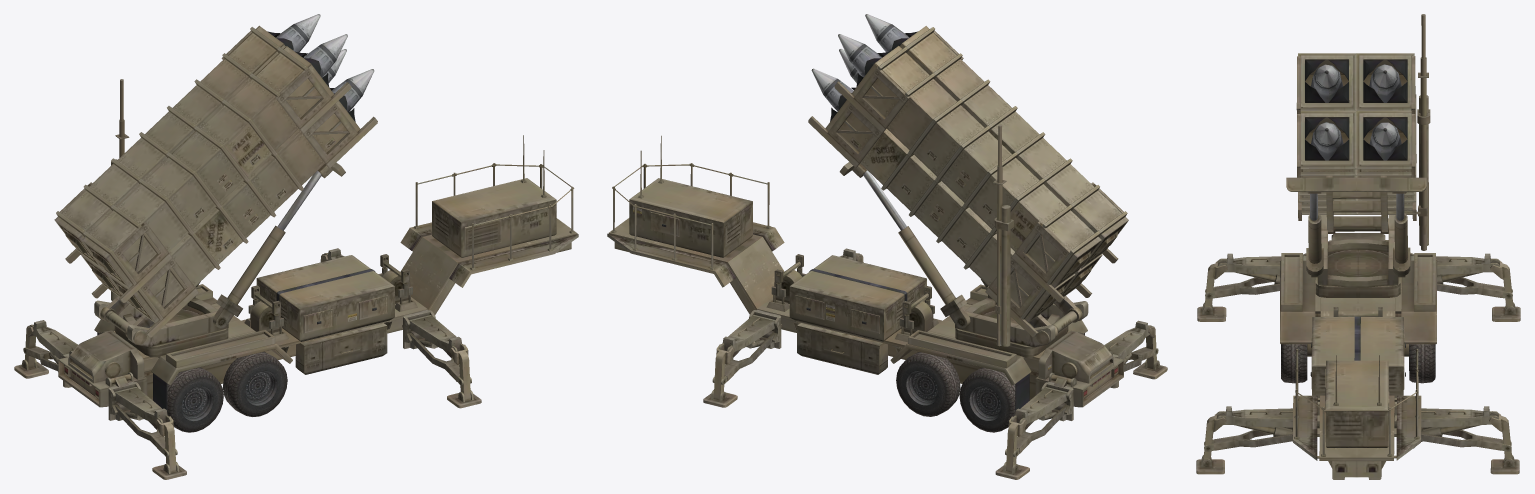
3 views of the same model, side by side, from view 1: azimuth 30°, elevation 25°; view 2: azimuth 150°, elevation 25°; view 3: azimuth 270°, elevation 25° (orthographic). The views are drawn at different scales.
Parts seen in each view (by area): view 1: Object_4, Object_3, Object_2; view 2: Object_4, Object_3, Object_2; view 3: Object_3, Object_4, Object_2.
Part boxes in pixels (x1,y1,x2,y2): Object_4: [54, 14, 377, 344]; Object_3: [14, 135, 578, 479]; Object_2: [167, 351, 287, 432]; Object_4: [808, 14, 1128, 346]; Object_3: [607, 135, 1167, 479]; Object_2: [896, 352, 1015, 432]; Object_3: [1196, 215, 1520, 479]; Object_4: [1286, 14, 1430, 277]; Object_2: [1281, 344, 1435, 383].
Size of the model in its own units: 1022 by 697 by 561.
Materials: 2 (2 with a texture image).
